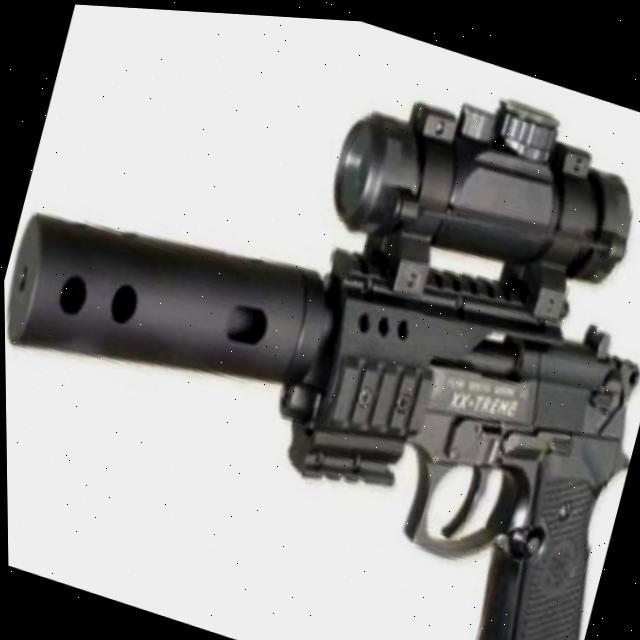gun: (223, 238, 640, 640)
